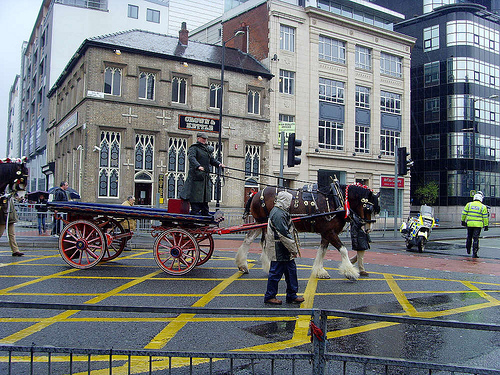horse: (234, 177, 379, 283), (1, 156, 31, 204)
